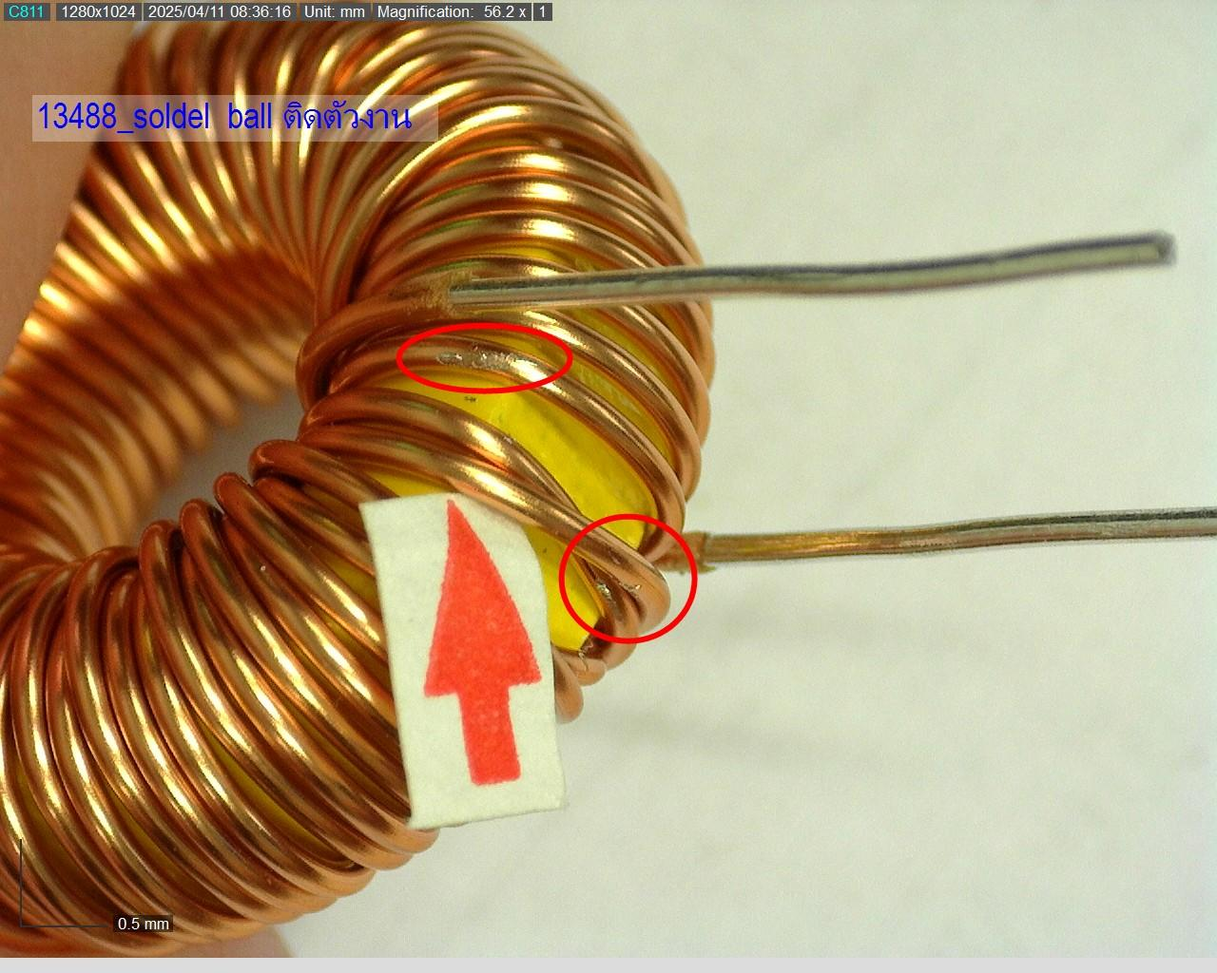solder ball: (421, 338, 531, 371), (584, 563, 647, 609)
